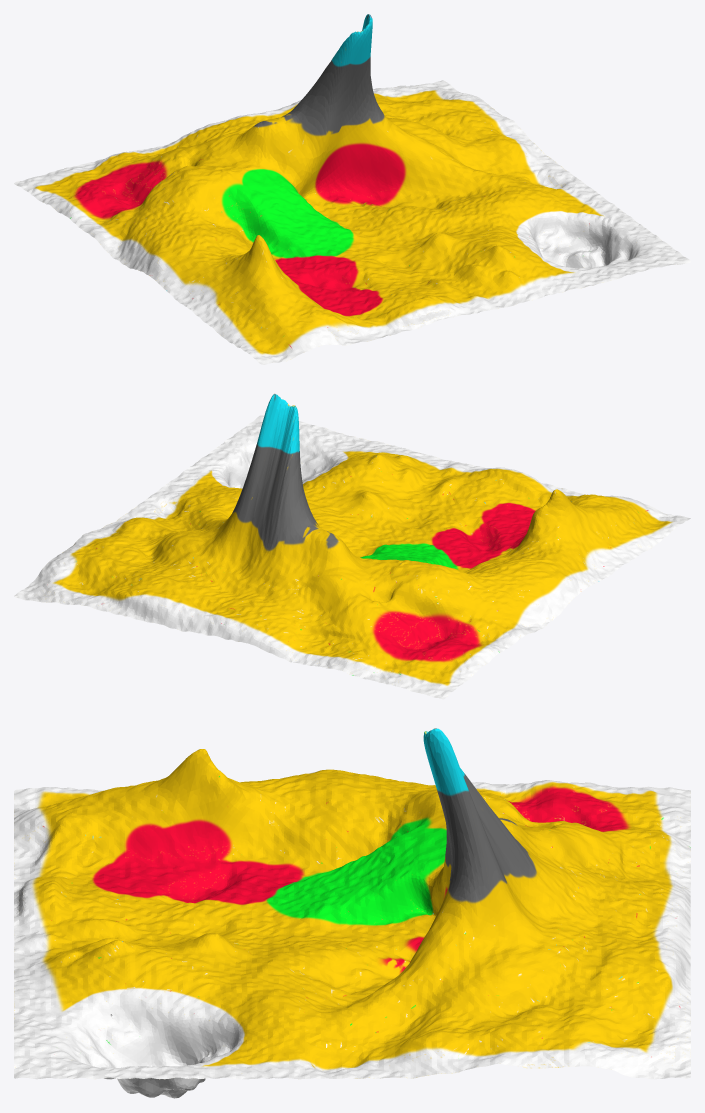
The model's file is map2-0.fbx.
The picture shows the model from 3 angles, top to bottom: view 1: azimuth 30°, elevation 25°; view 2: azimuth 150°, elevation 25°; view 3: azimuth 270°, elevation 25°; orthographic projection. The views are drawn at different scales.
Parts seen in each view (by area): view 1: Plane; view 2: Plane; view 3: Plane.
Boxes of the visible parts, x1=… form: Plane: x1=14, y1=14, x2=690, y2=364; Plane: x1=14, y1=393, x2=690, y2=699; Plane: x1=14, y1=728, x2=690, y2=1098.
Size of the model in its own units: 20062 by 9813 by 20002.
